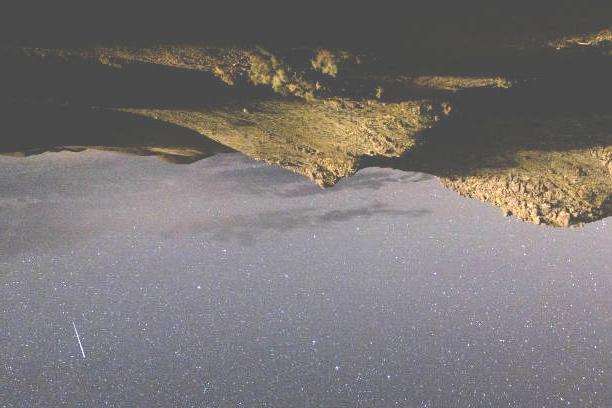meteorite: (64, 319, 98, 361)
